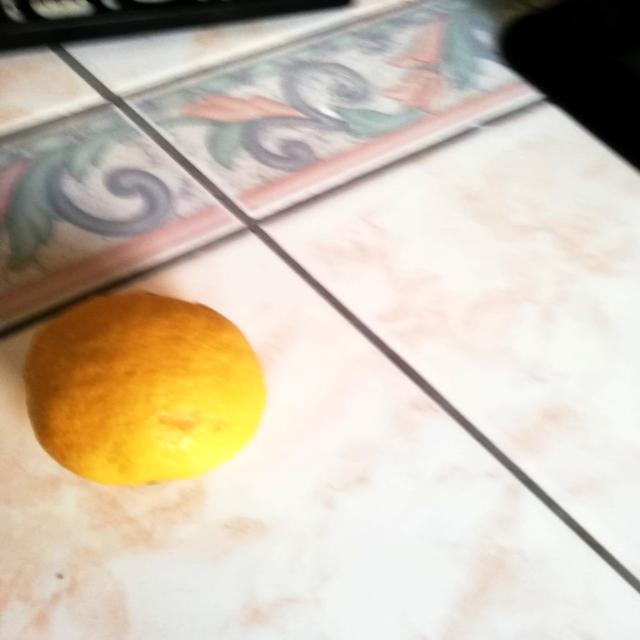lemon: (19, 271, 288, 498)
